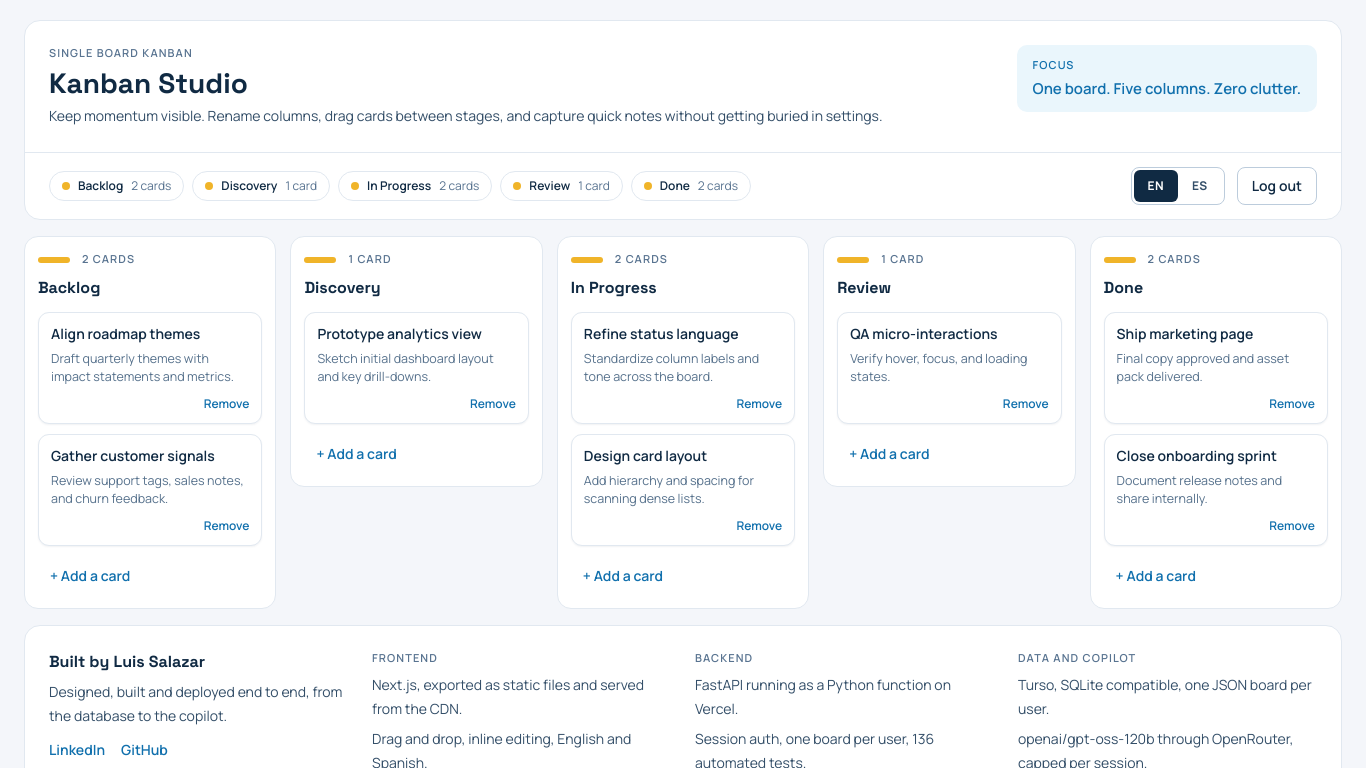
Test: KanbanBoard › adds and removes a card
The image size is (1366, 768).
Click the button "+ Add a card" below "Gather customer signals": x=150, y=576 [38,558,262,594]
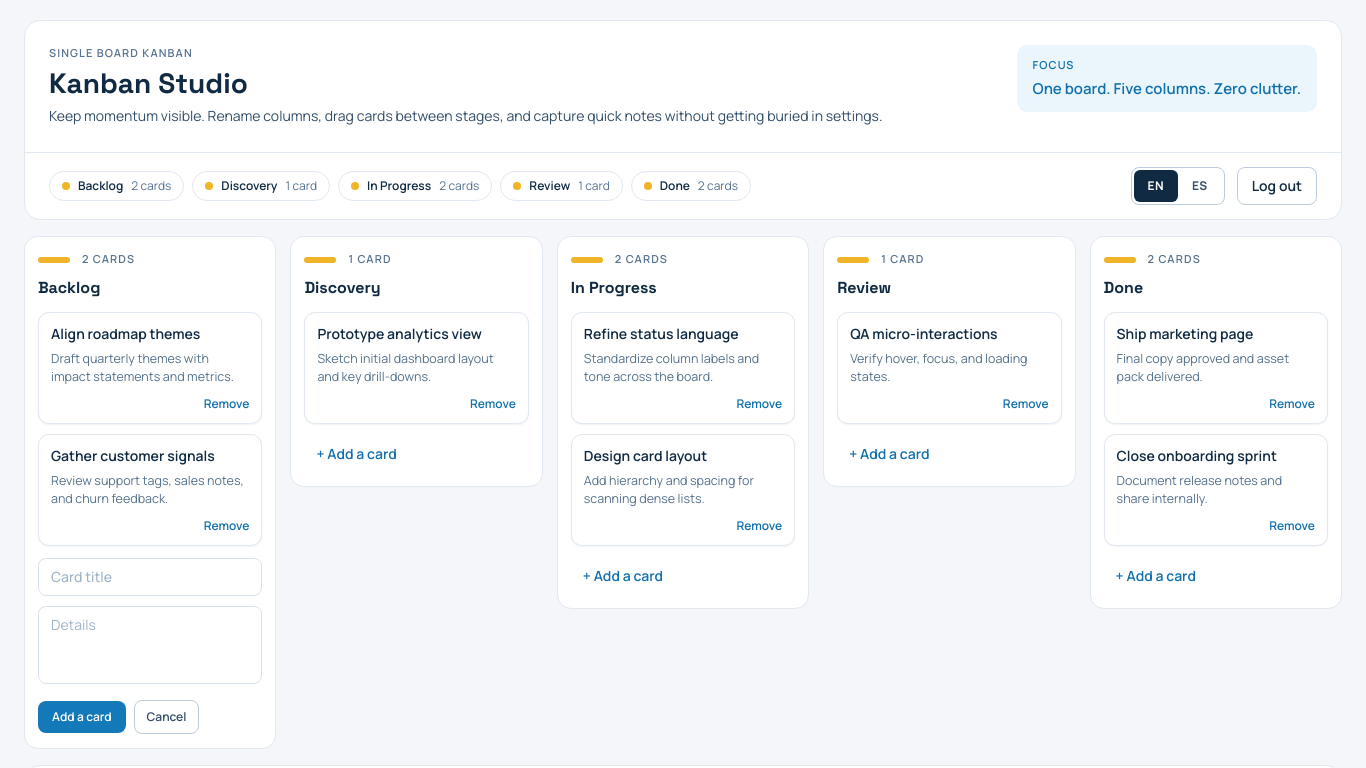
In the field with placeholder "Card title": x=150, y=577 [38,558,262,596], type "New card"
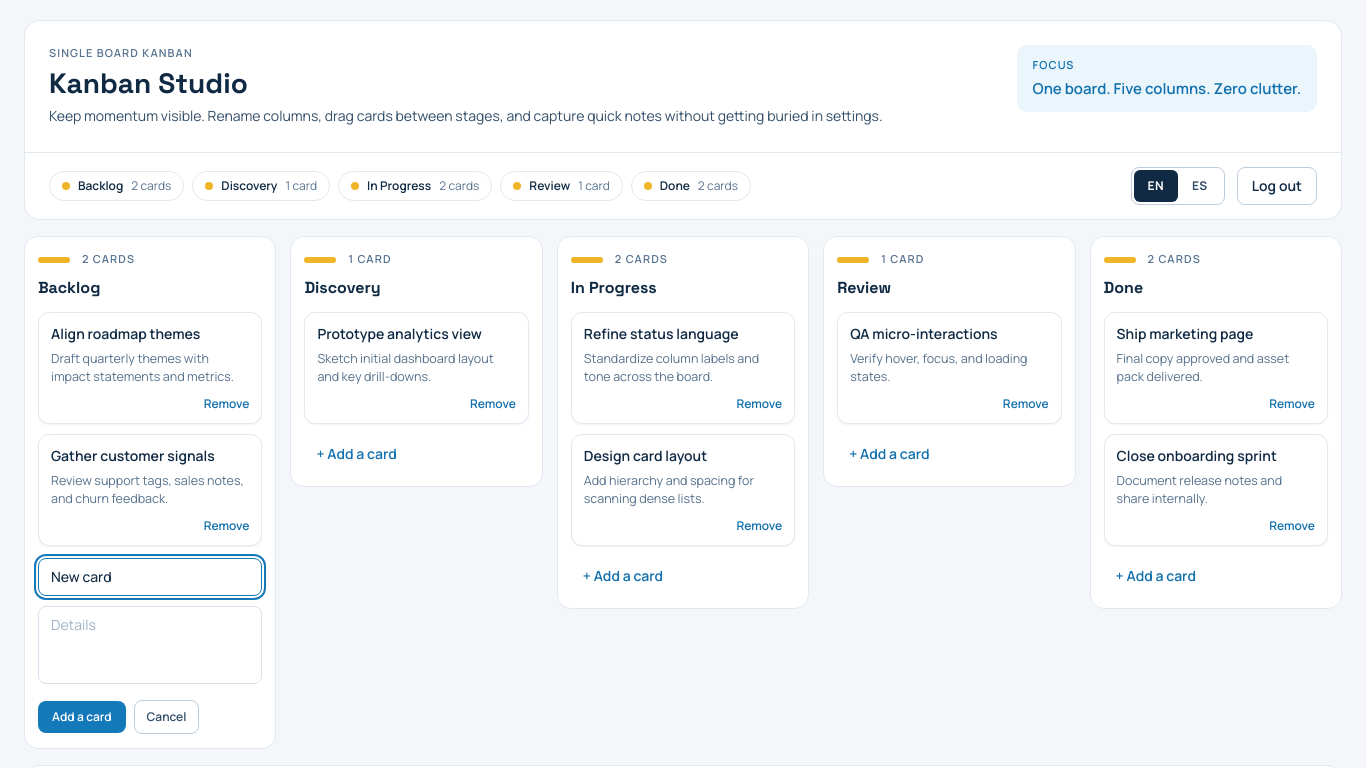
In the text box with placeholder "Details": x=150, y=645 [38,606,262,684], type "Notes"
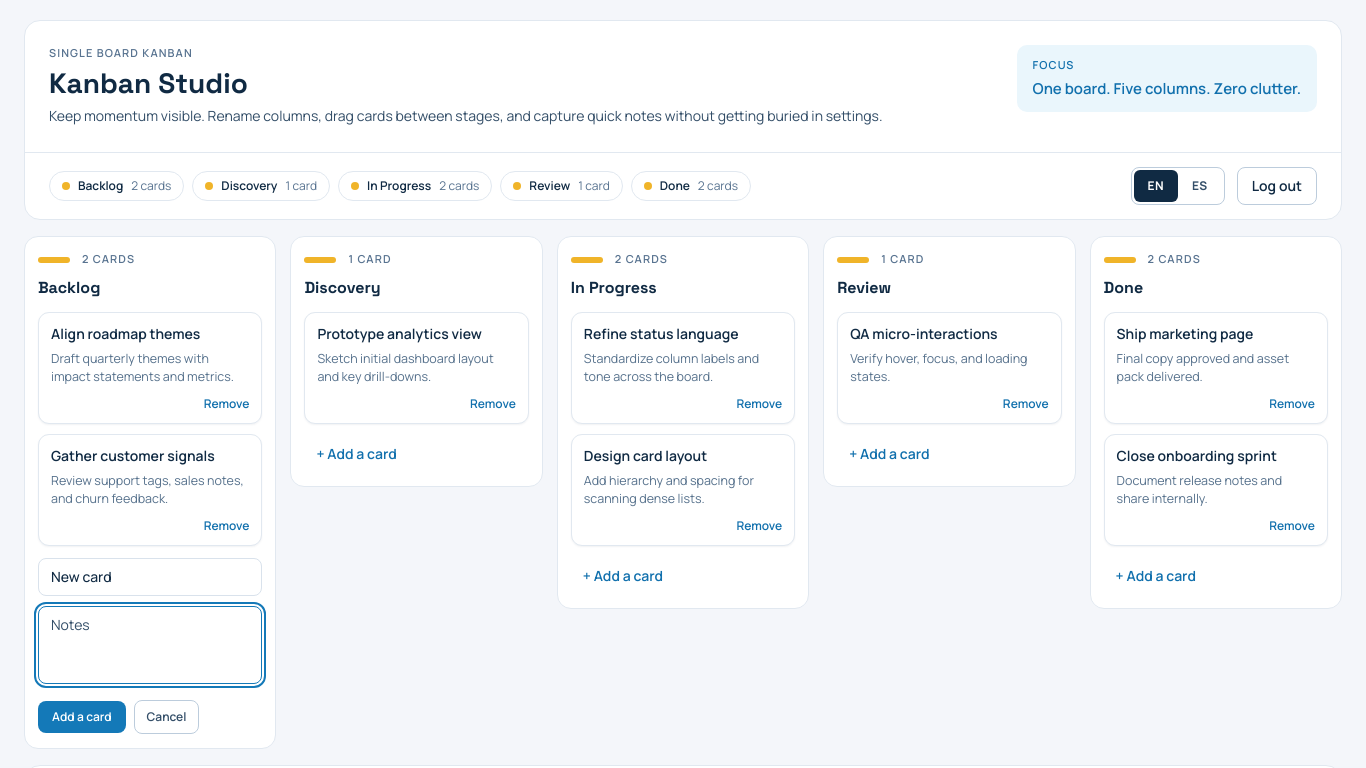
Click the button "Add a card": x=82, y=717 [38,701,126,733]
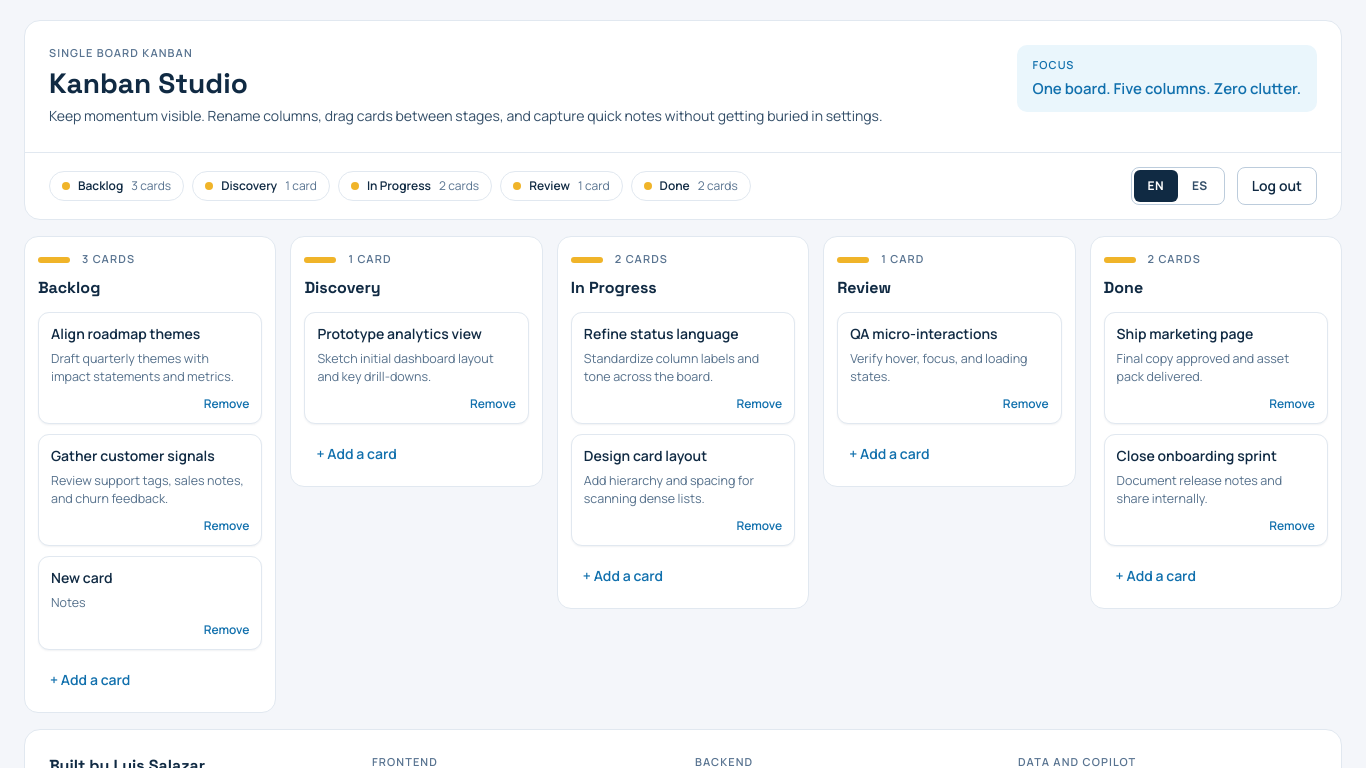
Now the heading "New card" is shown, box [51,568,112,587]
Click the button with aria-label "remove new card": x=226, y=630 [198,618,255,642]
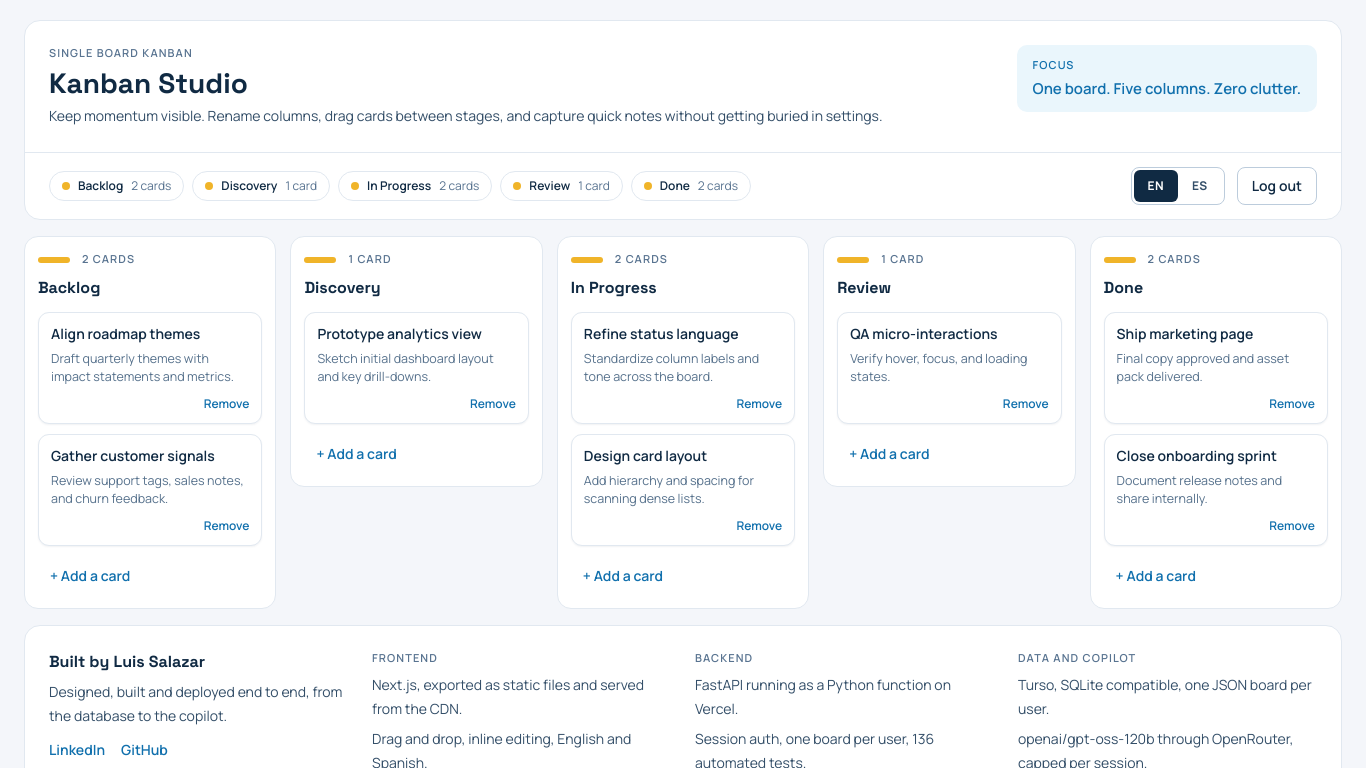
Now the heading "New card" is gone
